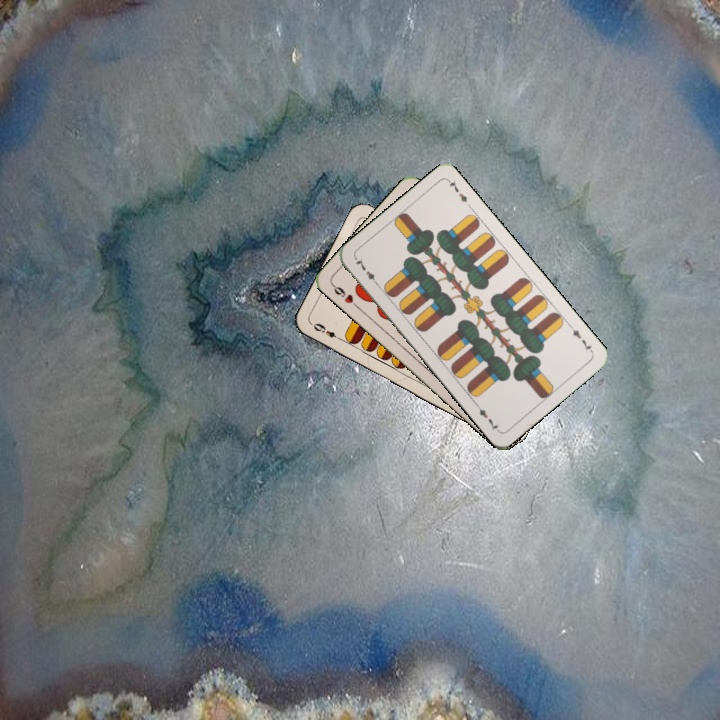E7: (351, 254, 381, 288), (565, 321, 595, 355)
E9: (308, 319, 345, 344)
H9: (328, 280, 361, 311)
